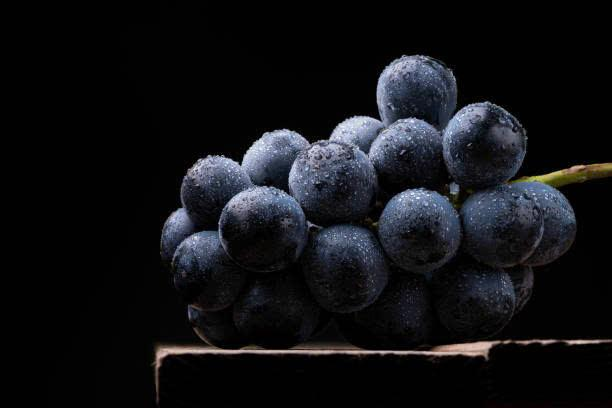grape: (128, 51, 570, 361), (223, 159, 400, 299), (446, 101, 569, 262), (242, 119, 423, 171), (385, 185, 456, 285), (380, 43, 449, 127), (182, 130, 249, 215), (161, 227, 233, 297)
